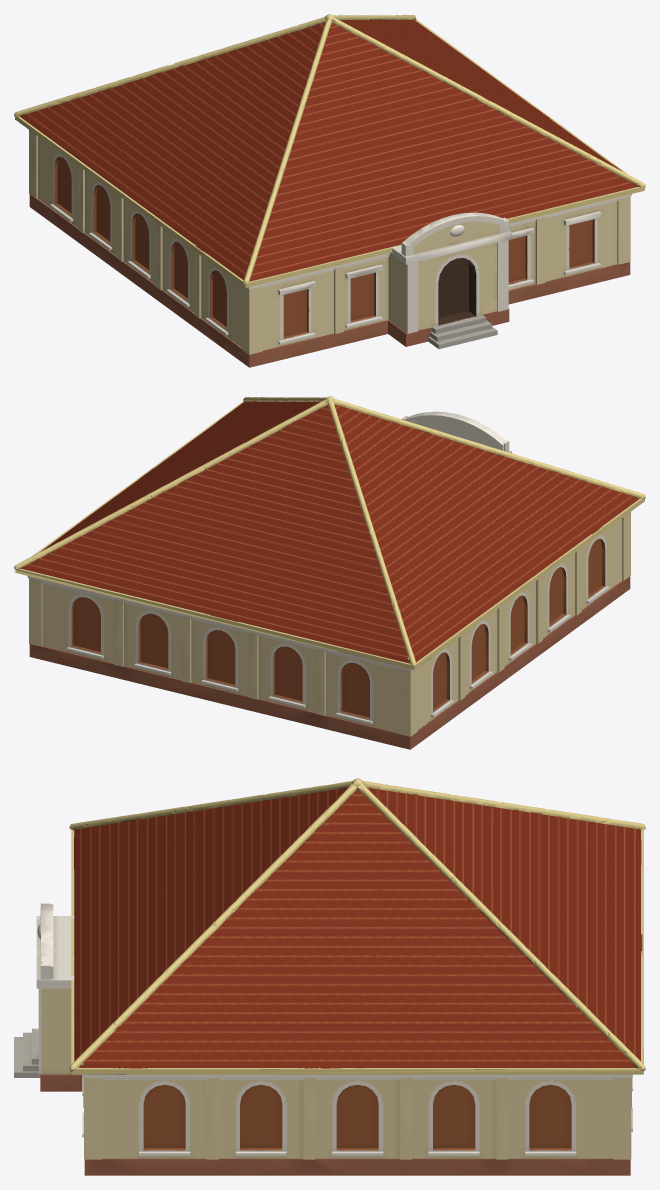
Rendered from nha_mai_ngoi_cam.glb.
The picture shows the model from 3 angles, top to bottom: view 1: azimuth 30°, elevation 25°; view 2: azimuth 150°, elevation 25°; view 3: azimuth 270°, elevation 25°; orthographic projection. The views are drawn at different scales.
Visible parts, largest first — view 1: nha_mai_ngoi_cam; view 2: nha_mai_ngoi_cam; view 3: nha_mai_ngoi_cam.
Boxes of the visible parts, box(x1,y1,x2,y2) form: nha_mai_ngoi_cam: box(14, 14, 645, 367); nha_mai_ngoi_cam: box(14, 396, 645, 749); nha_mai_ngoi_cam: box(14, 778, 645, 1175).
Size of the model in its own units: 19.13 by 10.3 by 20.97.
2 materials, 2 textured.
